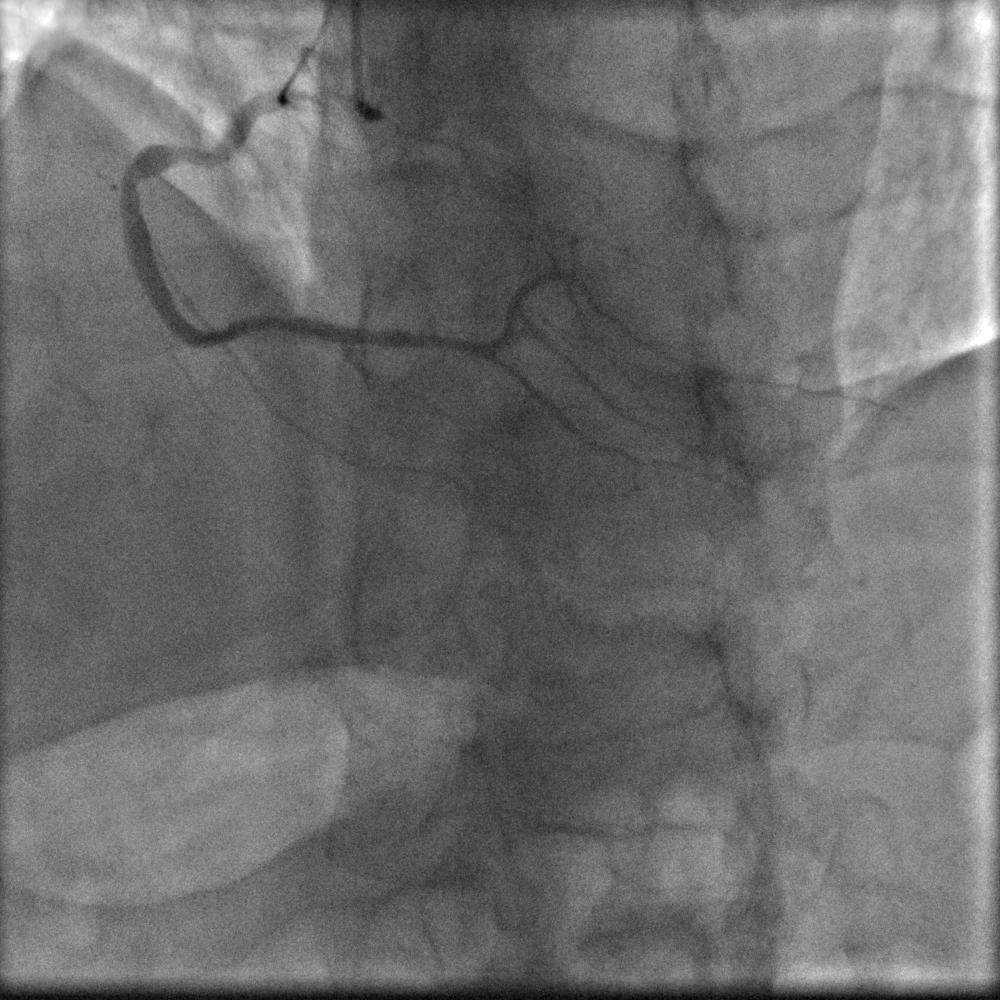Stenosis: (117, 159, 147, 187)
